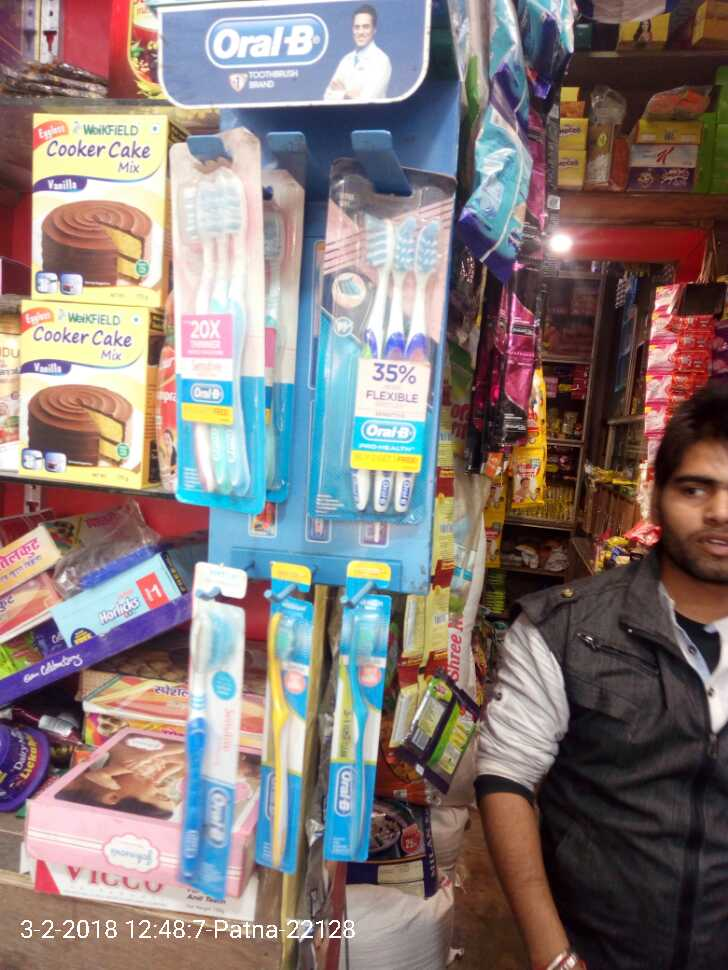oralb: (329, 178, 441, 540), (167, 140, 264, 514), (325, 591, 402, 868), (186, 576, 241, 884), (258, 586, 313, 879)
